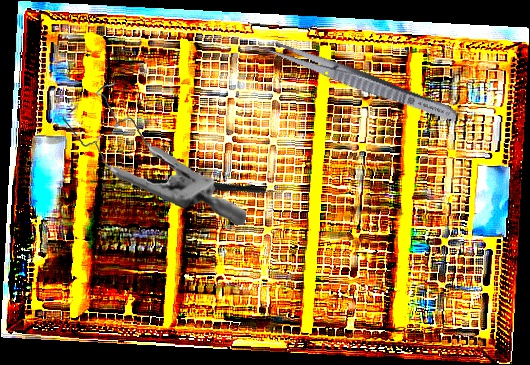Chopper: (143, 127, 290, 240)
Dressing Forceps: (262, 36, 461, 126)
Speculum: (56, 79, 255, 226)
